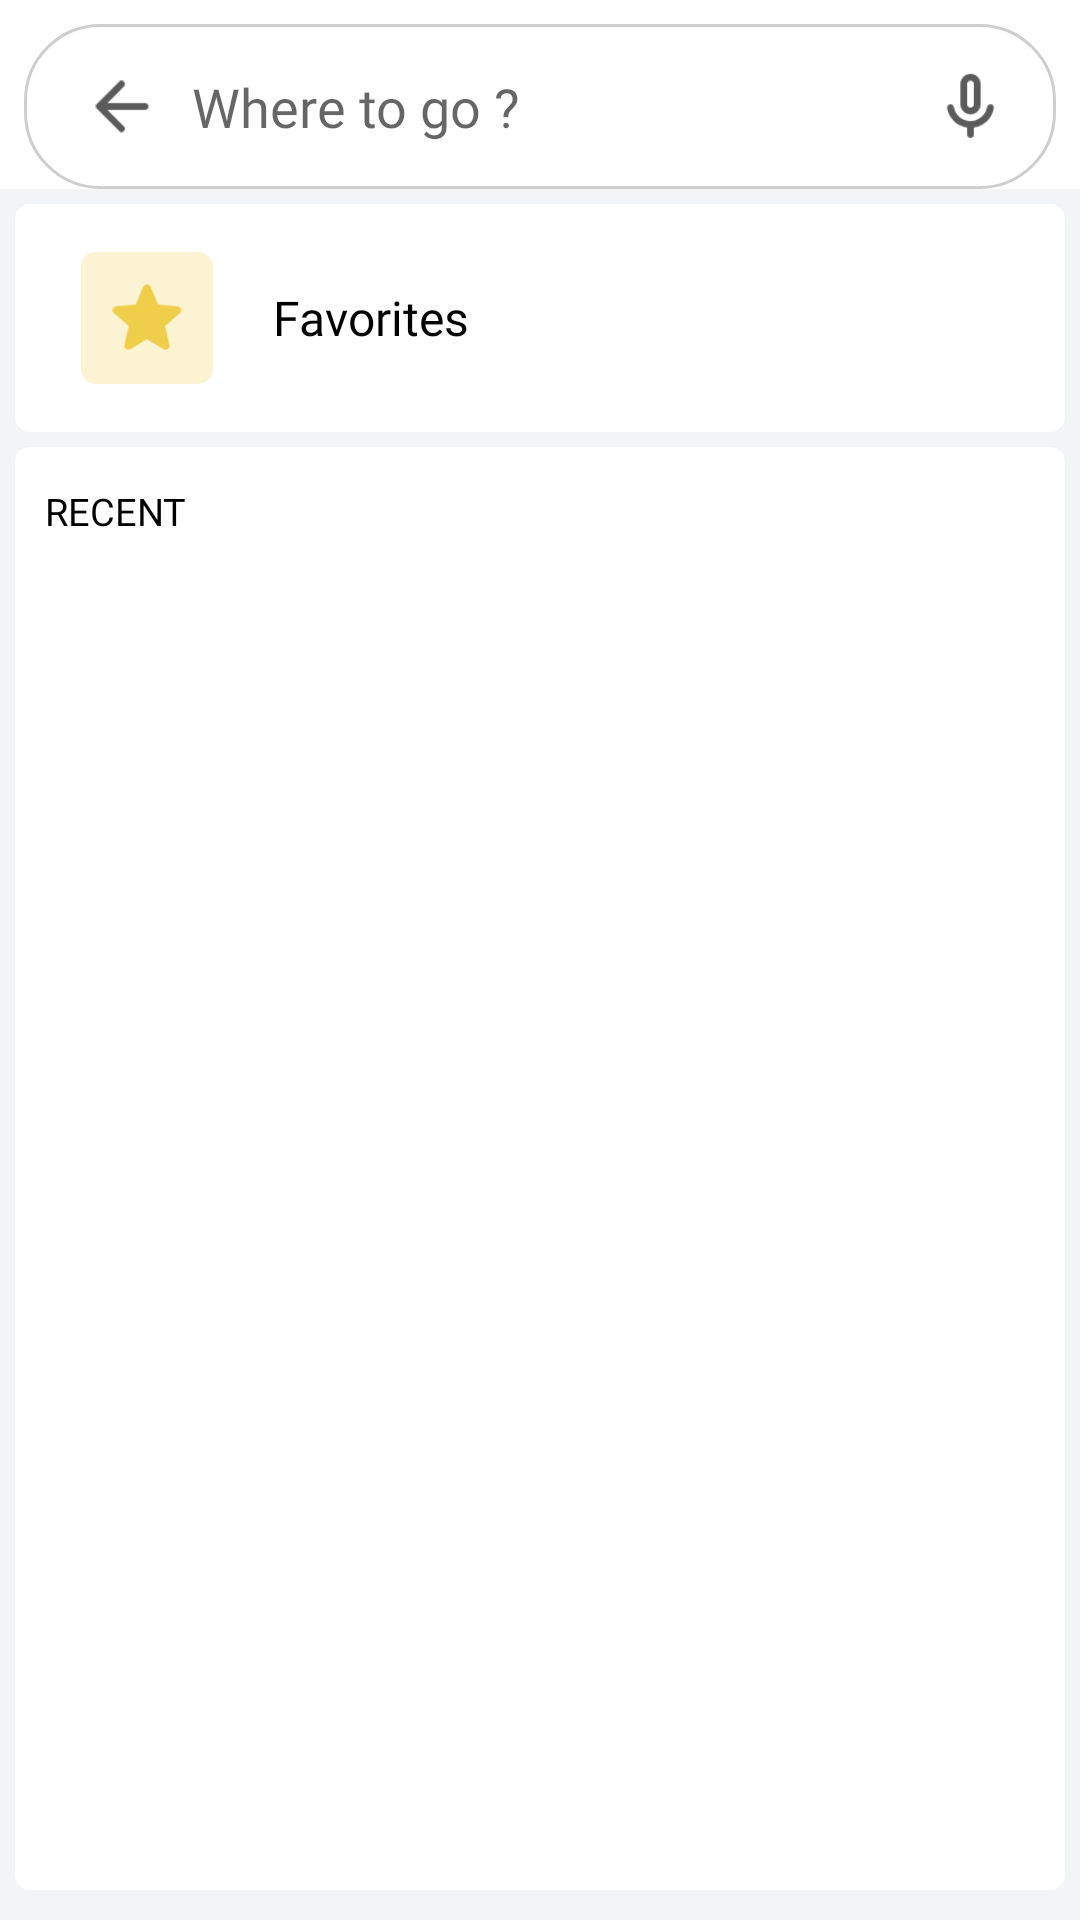

Point at icon controls on the screen. Image size 1080*1920, points as [x,y].
back: [122,106]
fav: [147,318]
mic: [970,105]
